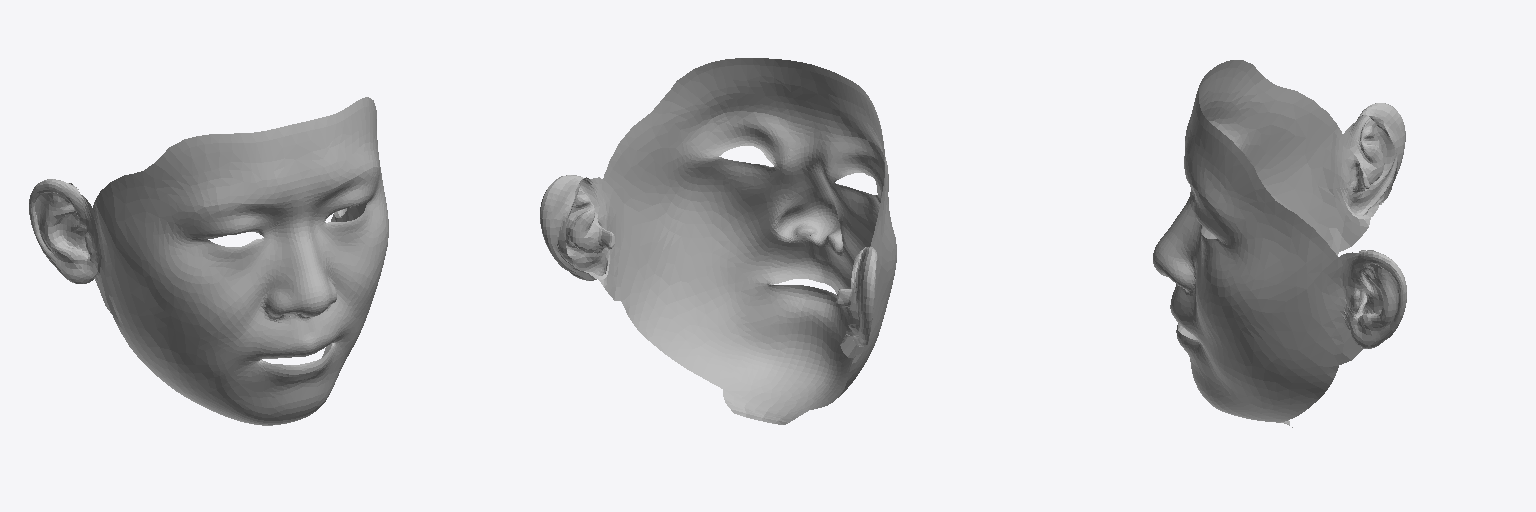
The model's file is meanShape_vt_simp.obj.
3 renders of one model, left to right at view 1: azimuth 30°, elevation 25°; view 2: azimuth 150°, elevation 25°; view 3: azimuth 270°, elevation 25°, orthographic.
Bounding box in the file's own units: 212 × 197 × 140.